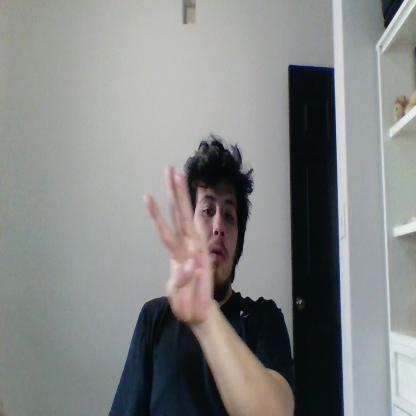W: (144, 164, 213, 322)
